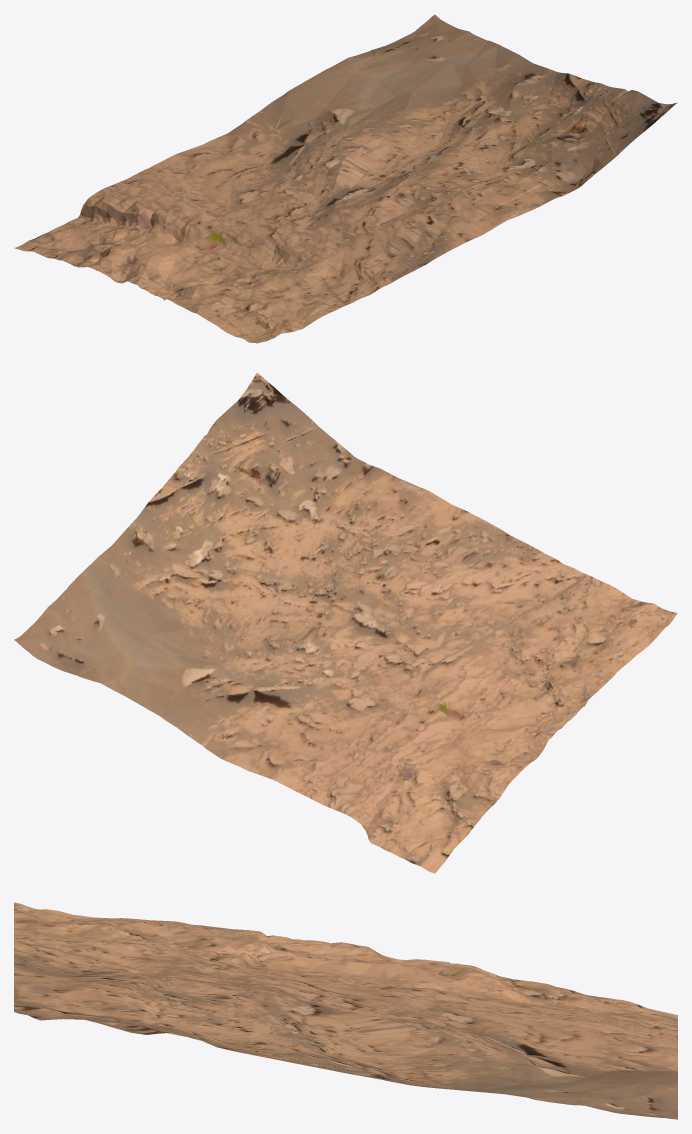
The picture shows the model from 3 angles, top to bottom: view 1: azimuth 30°, elevation 25°; view 2: azimuth 150°, elevation 25°; view 3: azimuth 270°, elevation 25°; orthographic projection. The views are drawn at different scales.
Size of the model in its own units: 1.04 by 0.5235 by 1.04.
Materials: 2 (2 with a texture image).
